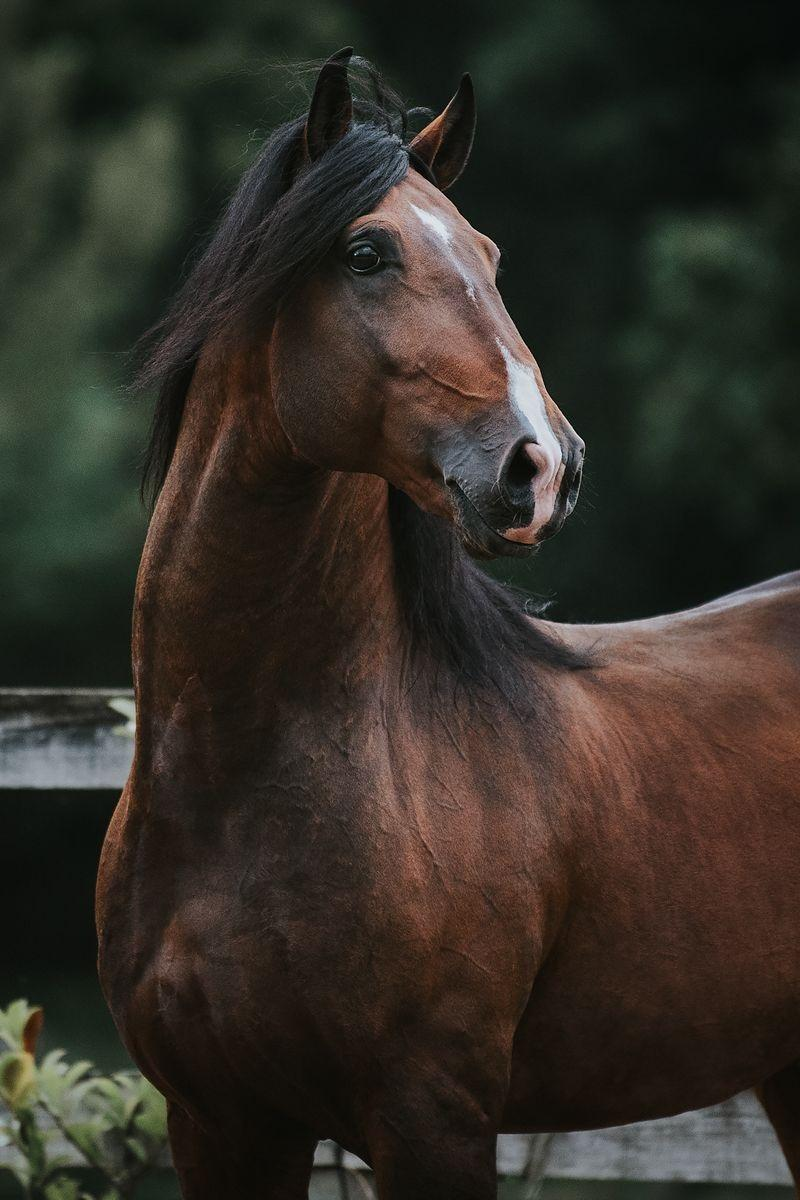horse: (92, 44, 798, 1197)
